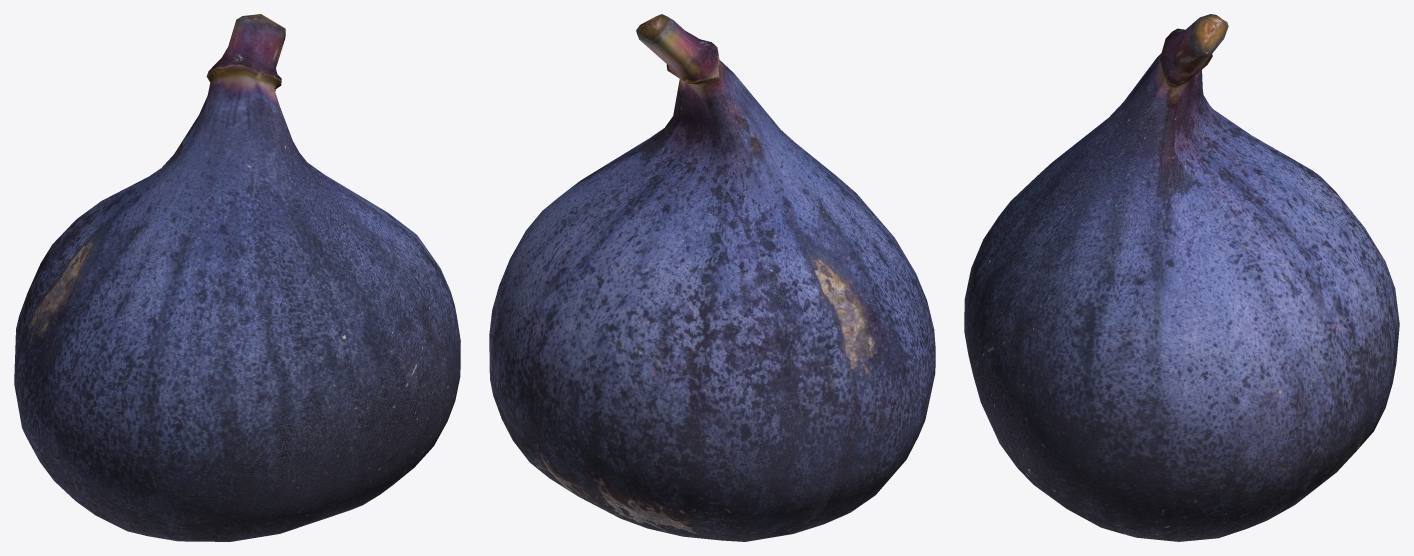
Rendered from fig.gltf.
3 views of the same model, side by side, from view 1: azimuth 30°, elevation 25°; view 2: azimuth 150°, elevation 25°; view 3: azimuth 270°, elevation 25° (orthographic). The views are drawn at different scales.
Visible parts, largest first — view 1: 76_fig; view 2: 76_fig; view 3: 76_fig.
Part boxes in pixels (box(x1,y1,x2,y2)): 76_fig: box(14, 14, 460, 541); 76_fig: box(489, 14, 935, 541); 76_fig: box(964, 14, 1399, 541).
Bounding box in the file's own units: 0.867 × 0.9976 × 0.8039.
1 material, 1 textured.
